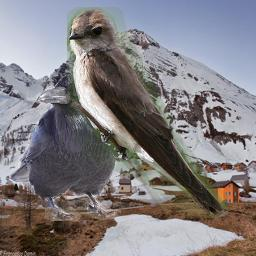Crow: (8, 72, 124, 221)
Swallow: (67, 7, 228, 218)
